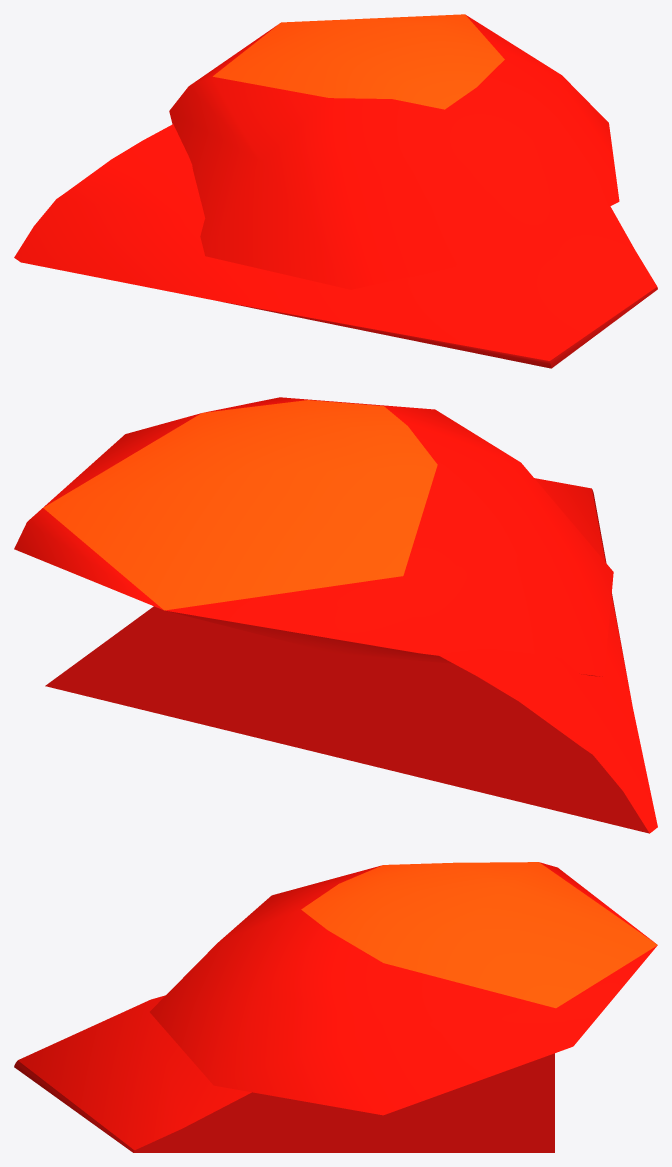
Rendered from shot_zflame_219.glb.
The picture shows the model from 3 angles, top to bottom: view 1: azimuth 30°, elevation 25°; view 2: azimuth 150°, elevation 25°; view 3: azimuth 270°, elevation 25°; orthographic projection. The views are drawn at different scales.
Parts seen in each view (by area): view 1: zflame_9_billow1_b219, zflame_9_bed_b219; view 2: zflame_9_billow1_b219, zflame_9_bed_b219; view 3: zflame_9_billow1_b219, zflame_9_bed_b219.
Part boxes in pixels (<box>): zflame_9_billow1_b219: <box>169,14,619,289</box>; zflame_9_bed_b219: <box>14,124,657,368</box>; zflame_9_billow1_b219: <box>14,397,613,676</box>; zflame_9_bed_b219: <box>45,478,657,833</box>; zflame_9_billow1_b219: <box>150,862,657,1115</box>; zflame_9_bed_b219: <box>14,995,554,1152</box>.
Bounding box in the file's own units: 5.68 × 1.86 × 5.63.
